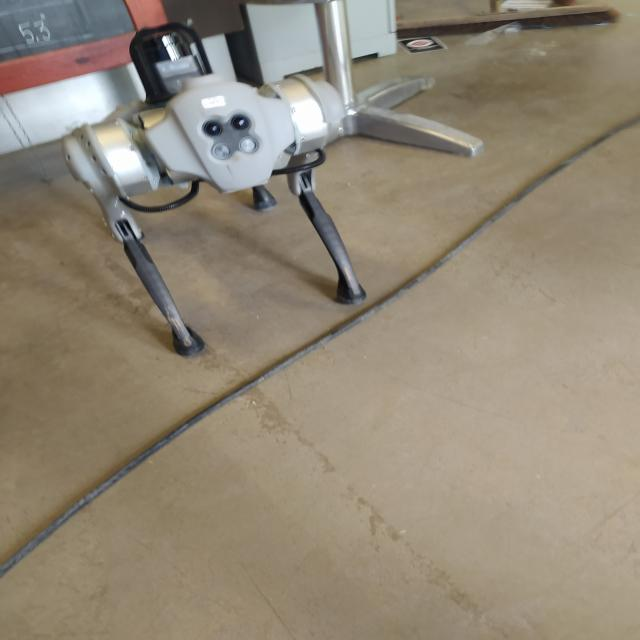unitree-go1-robot: (52, 6, 404, 371)
